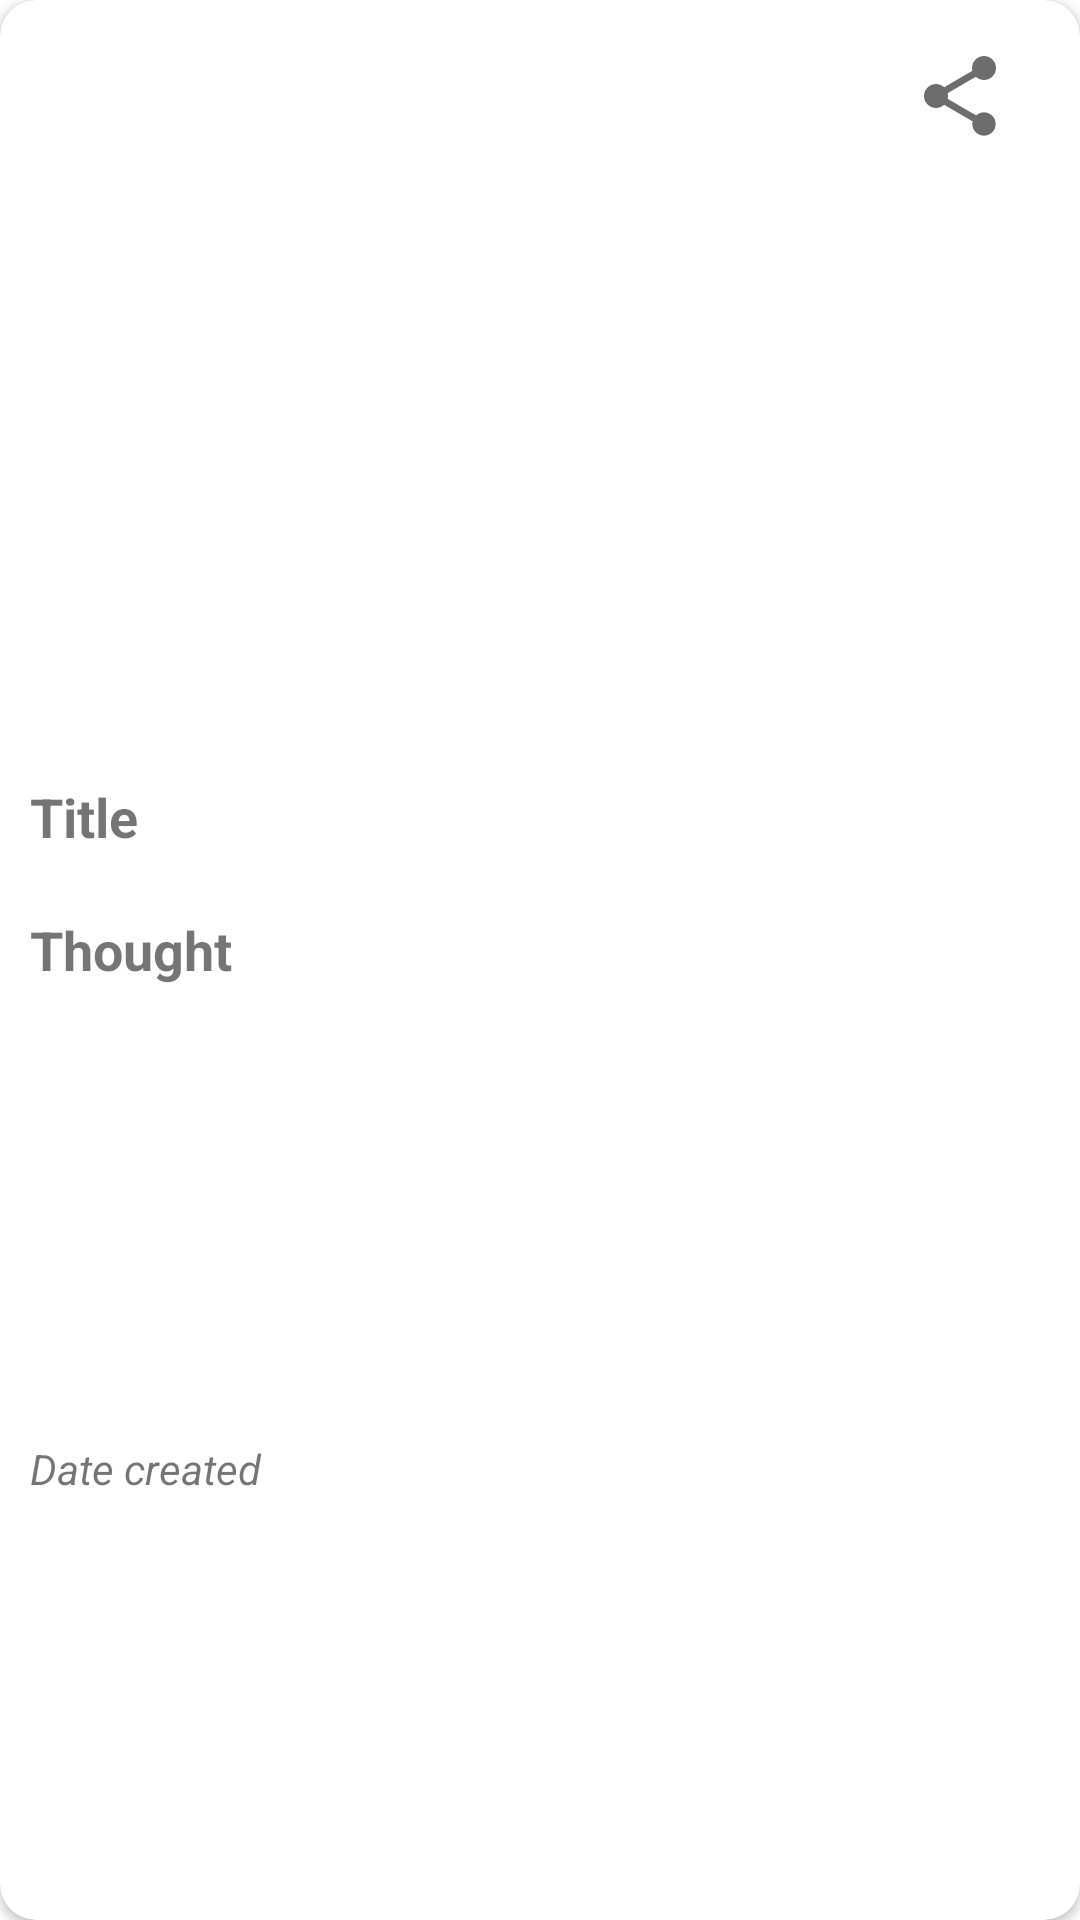

Icons on this 1080px×1920px Android screen, each with its box as {"left": x1, "top": y1, "right": x2, "bottom": y2}:
share: {"left": 924, "top": 56, "right": 996, "bottom": 136}
